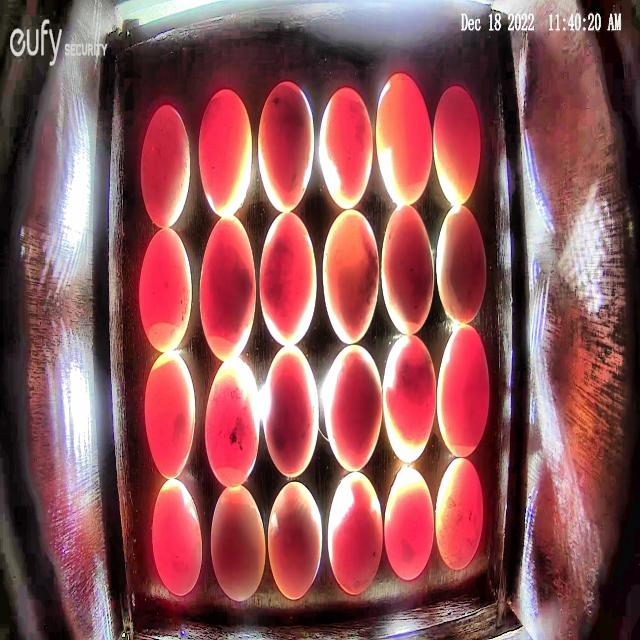FE: (199, 214, 257, 364), (259, 212, 318, 346), (376, 72, 434, 207), (323, 208, 380, 345), (262, 344, 320, 477), (257, 80, 314, 213), (325, 344, 383, 472), (437, 322, 490, 458), (380, 205, 434, 338), (327, 470, 383, 596), (206, 357, 260, 487), (198, 88, 252, 217), (267, 480, 324, 601), (384, 334, 437, 464), (138, 228, 193, 352), (210, 485, 267, 603), (320, 86, 374, 210), (145, 351, 196, 480), (140, 103, 191, 229), (433, 84, 481, 208), (436, 204, 486, 323), (152, 479, 202, 596), (384, 466, 434, 581), (435, 457, 483, 570)
